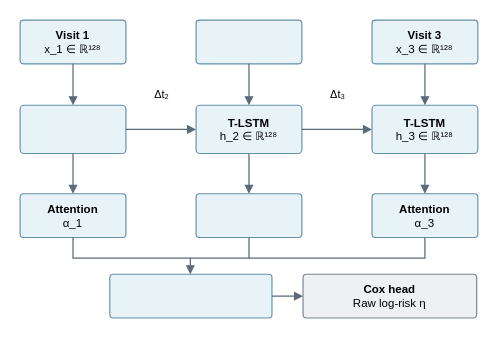
This 498x338 diagram has some shape labels left out. Here are the shapes that lost their labels. From the top down, the box of each, then its label:
(195, 19, 302, 64): Visit 2 x_2 ∈ ℝ¹²⁸
(19, 104, 126, 154): T-LSTM h_1 ∈ ℝ¹²⁸
(195, 193, 302, 237): Attention α_2
(109, 273, 272, 318): z = Σ α_t h_t Softmax theo visits
